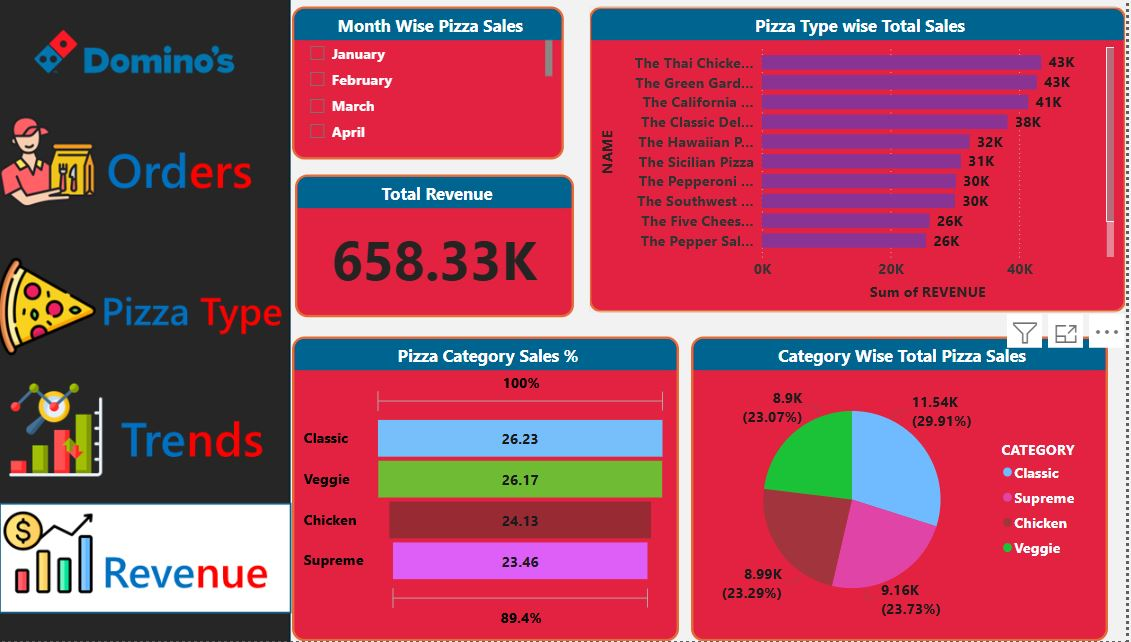

What the dashboard file says about the page in this screenshot:
{"tool":"powerbi","page":{"name":"Revenue","canvas":[1280,720],"ordinal":3},"visuals":[{"type":"funnel","title":"Pizza Category Sales %","fields":{"Category":["sales pizzatye_revenue.CATEGORY"],"Y":["Sum(sales pizzatye_revenue.REVENUE_PERCENTAGE)"]},"box":[340,381.7,450,323.3],"z":0},{"type":"card","title":"Total Revenue","fields":{"Values":["Sum(sales totalrevenue.TOTAL_REVENUE)"]},"box":[340,200,300,163.3],"z":1000},{"type":"pieChart","title":"Category Wise Total  Pizza Sales","fields":{"Category":["sales category_totalquanity.CATEGORY"],"Y":["Sum(sales category_totalquanity.TOTALQUANTITY)"]},"box":[801.7,381.7,463.3,323.3],"z":2000},{"type":"slicer","title":"Month Wise Pizza Sales","fields":{"Values":["sales orders.ORDER_DATE.Variation.Date Hierarchy.Month"]},"box":[340,15,300,181.7],"z":3000},{"type":"clusteredBarChart","title":"Pizza Type wise Total Sales","fields":{"Category":["sales top3pizzas_basedon_revenue.NAME"],"Y":["Sum(sales top3pizzas_basedon_revenue.REVENUE)"]},"box":[666.7,15,598.3,355],"z":4000},{"type":"actionButton","box":[23.3,281.7,330,111.7],"z":5000},{"type":"actionButton","box":[36.7,150,330,111.7],"z":6000},{"type":"actionButton","box":[26.7,140,330,111.7],"z":7000},{"type":"actionButton","box":[23.3,435,330,111.7],"z":8000}]}

Visuals, with their boxes in screenshot pixels (x1, y1, x2, y2), scaled from the page's 1280x720 canvas onto the 1131x642 screenshot:
"Pizza Category Sales %" funnel: crop(300, 340, 698, 629)
"Total Revenue" card: crop(300, 178, 566, 324)
"Category Wise Total  Pizza Sales" pieChart: crop(708, 340, 1118, 629)
"Month Wise Pizza Sales" slicer: crop(300, 13, 566, 175)
"Pizza Type wise Total Sales" clusteredBarChart: crop(589, 13, 1118, 330)
actionButton: crop(21, 251, 312, 351)
actionButton: crop(32, 134, 324, 233)
actionButton: crop(24, 125, 315, 224)
actionButton: crop(21, 388, 312, 487)
